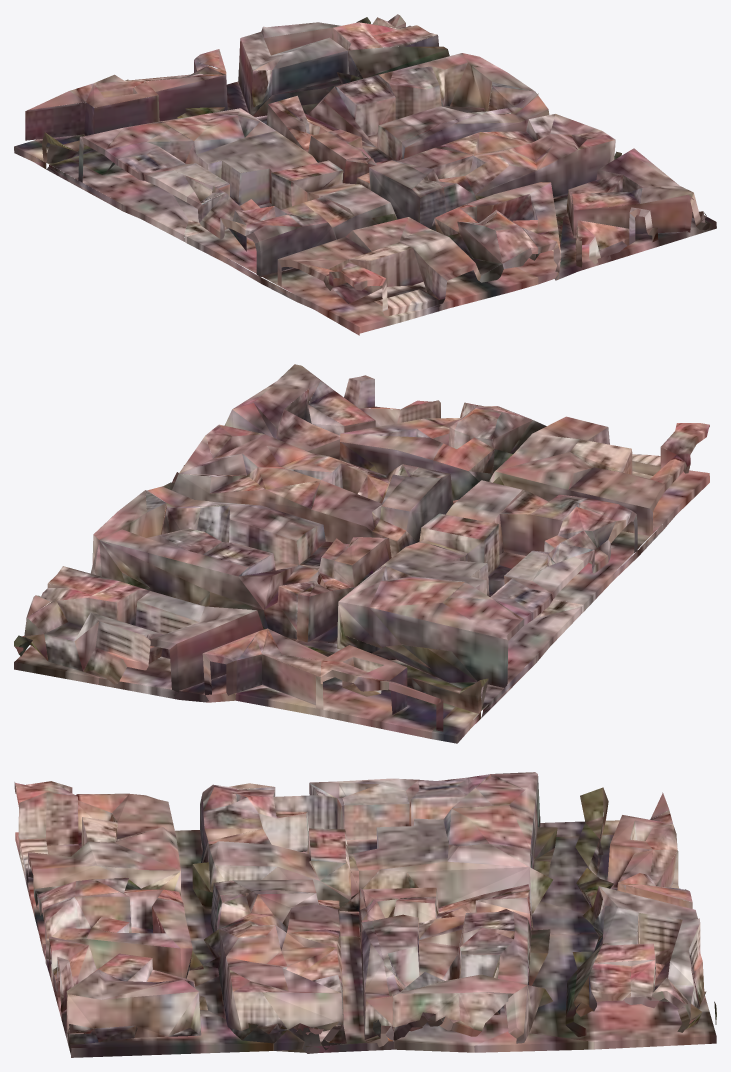
The picture shows the model from 3 angles, top to bottom: view 1: azimuth 30°, elevation 25°; view 2: azimuth 150°, elevation 25°; view 3: azimuth 270°, elevation 25°; orthographic projection. The views are drawn at different scales.
Visible parts, largest first — view 1: Mesh_0; view 2: Mesh_0; view 3: Mesh_0.
Part boxes in pixels (box(x1,y1,x2,y2)): Mesh_0: box(14, 14, 716, 335); Mesh_0: box(14, 364, 709, 743); Mesh_0: box(14, 772, 716, 1057).
Size of the model in its own units: 266 by 43.39 by 330.
Materials: 2 (2 with a texture image).
